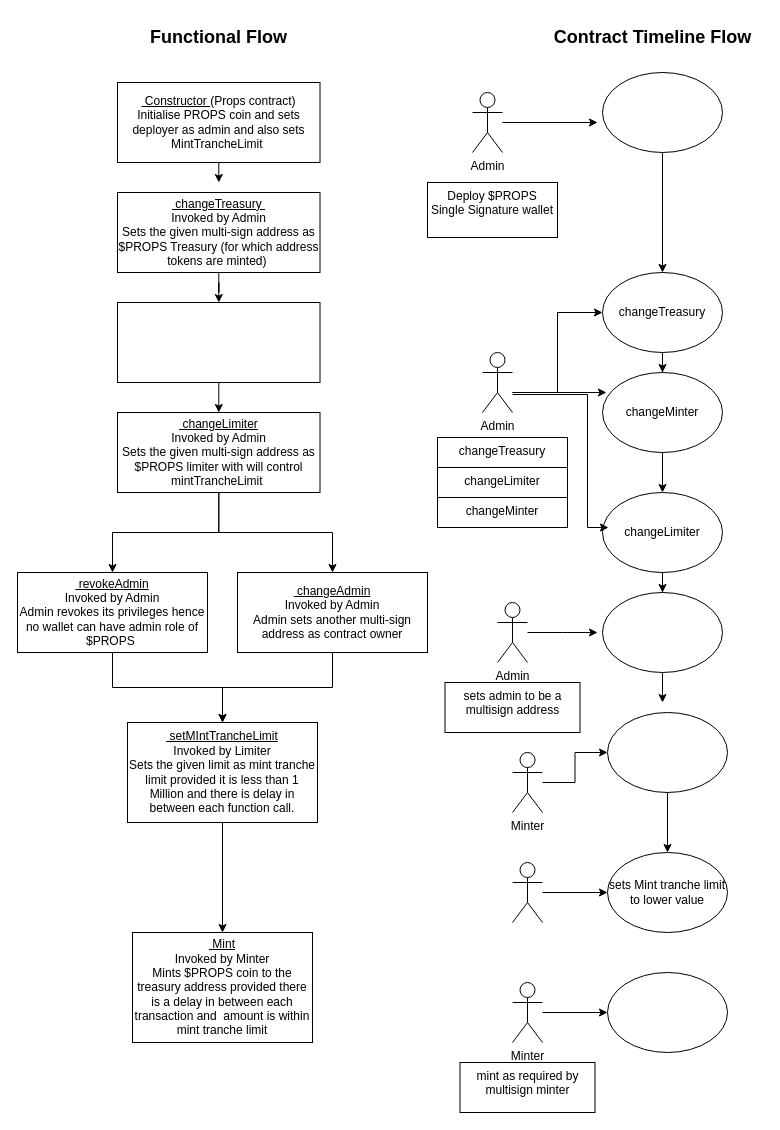
This 780x1130 diagram has some shape labels left out. The centre of each missing label's shape, as x and y in pixels:
"ChangeAdmin" goes at (x=662, y=632).
"changeMinter Invoked by Admin Sets the given multi-sign address as $PROPS Minter" goes at (x=218, y=342).
"Limiter" goes at (x=527, y=892).
"Mints $PROPS" goes at (x=667, y=1012).
"Mints $PROPS to Treasury" goes at (x=667, y=752).
"Props Deployment" goes at (x=662, y=112).
